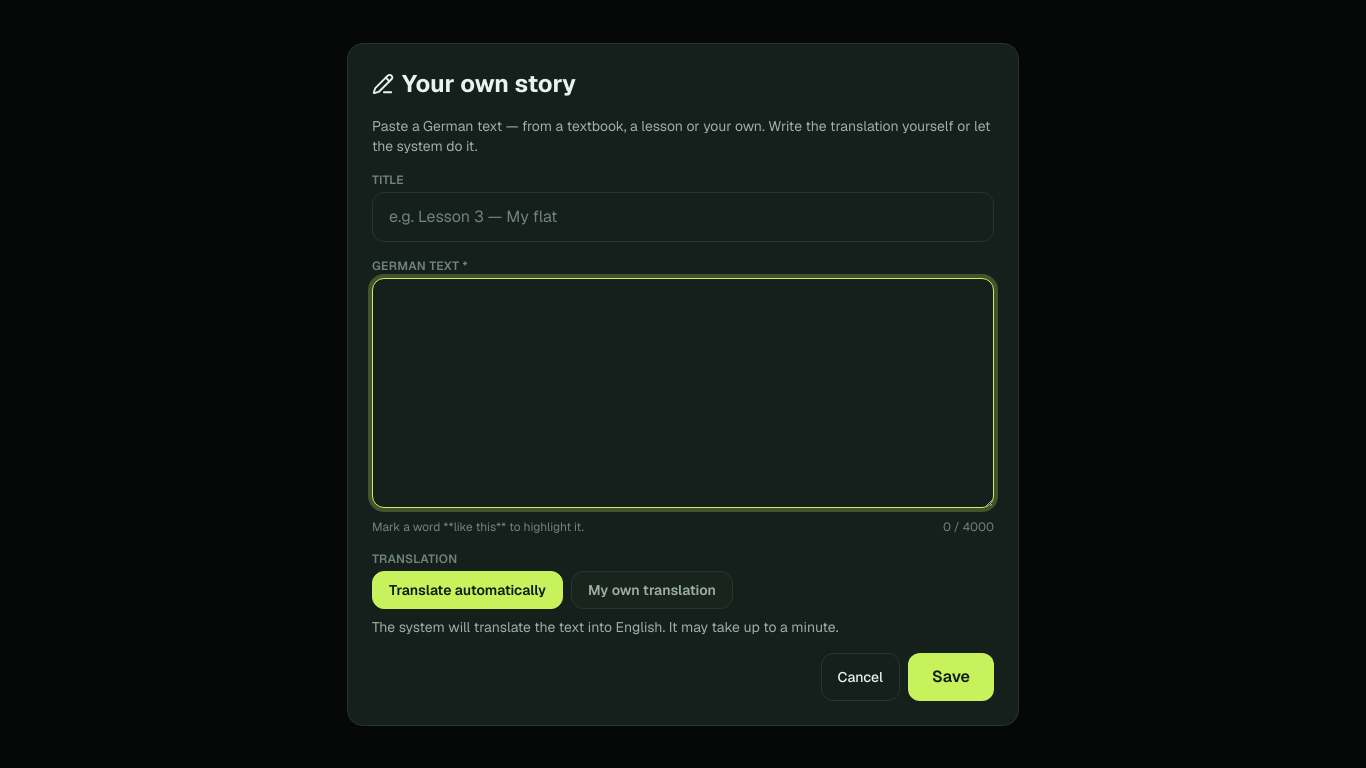
Test case: StoryFormModal: create › the counter counts code points, not UTF-16 units
This screenshot has width=1366, height=768.
Type "😀😀😀" into the text box labelled "German text *".
click(683, 392); type("😀😀😀")  # box 372,278 -> 994,508
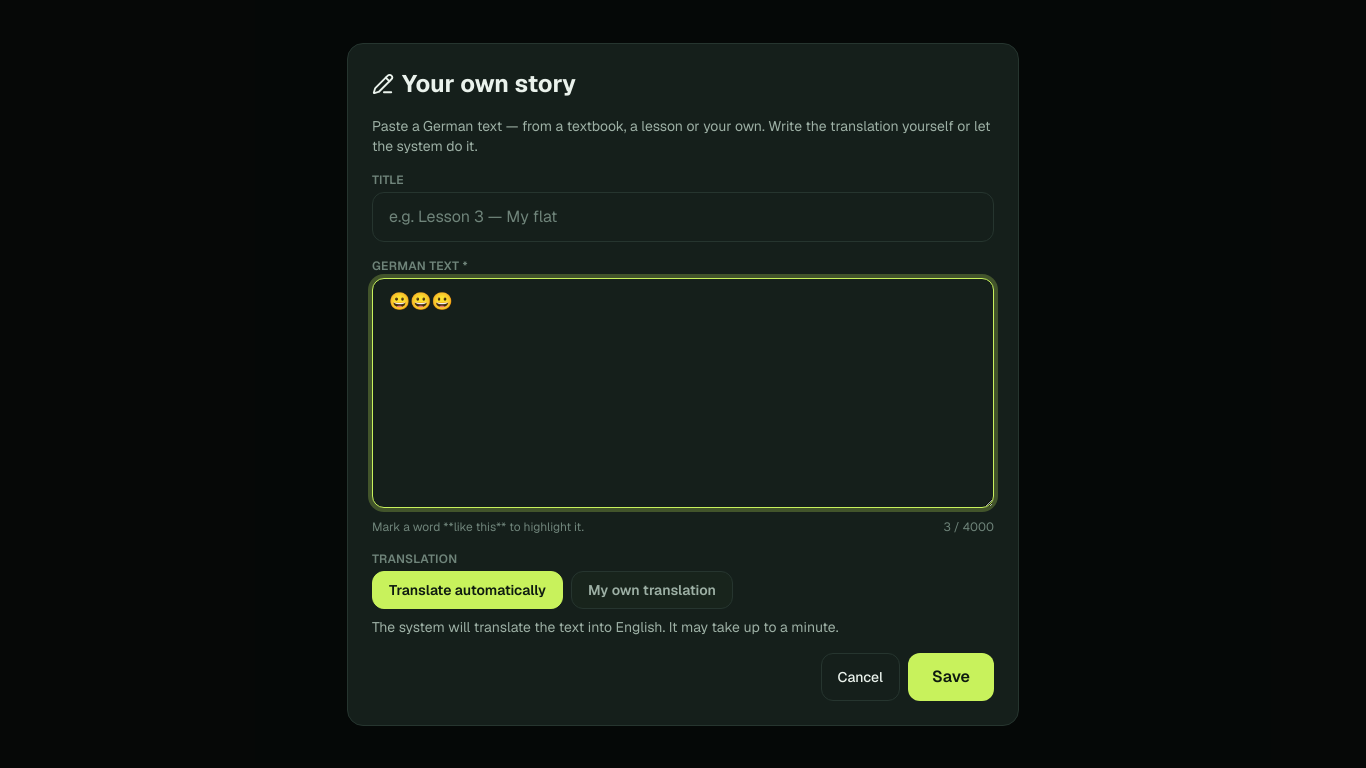
Result: the text "3 / 4000" is shown at 944,518 -> 994,534
